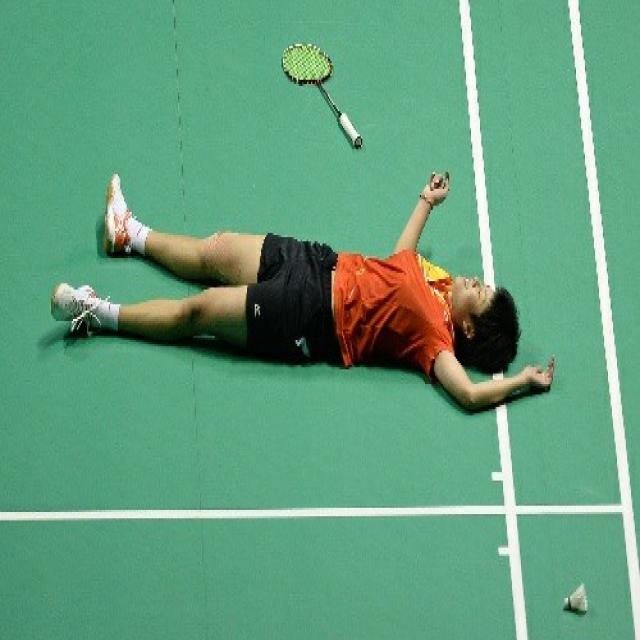fall: (54, 172, 557, 409)
